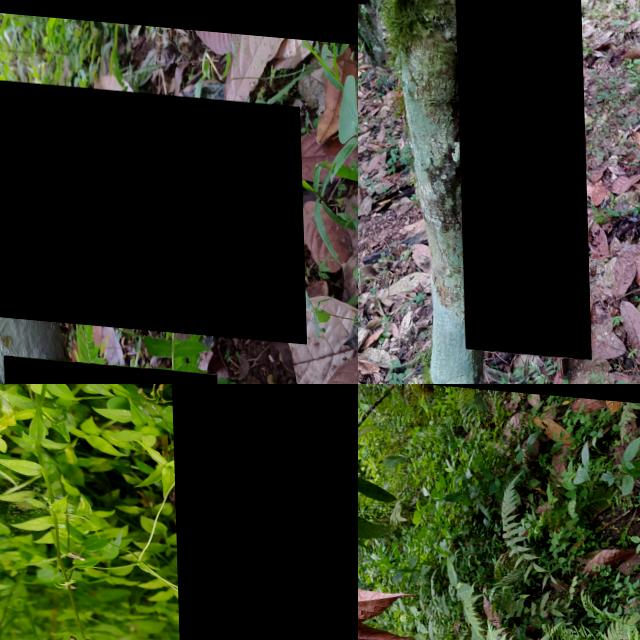Fitoftora: (169, 384, 358, 640)
Monilia: (1, 350, 217, 384)
Sana: (0, 69, 305, 333), (454, 0, 588, 354)
